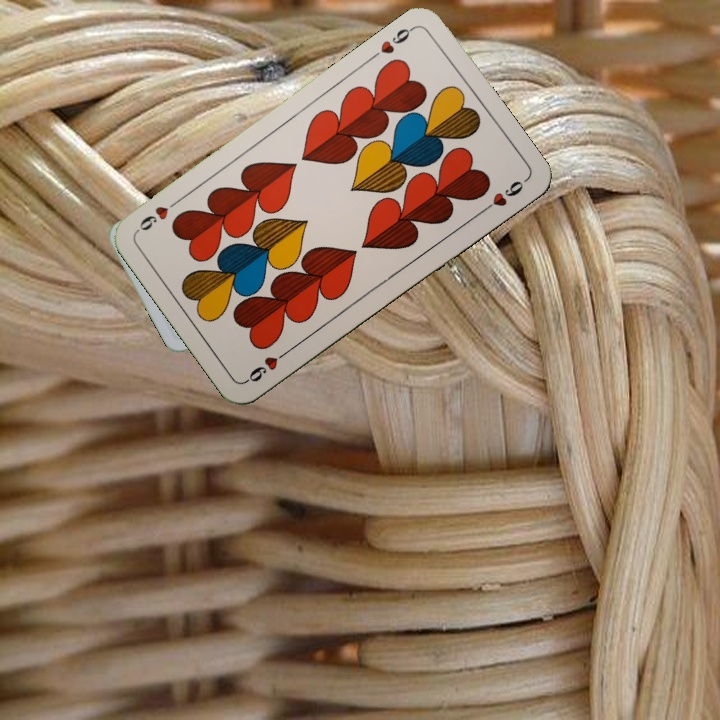H9: (242, 345, 293, 385), (376, 22, 418, 57)
